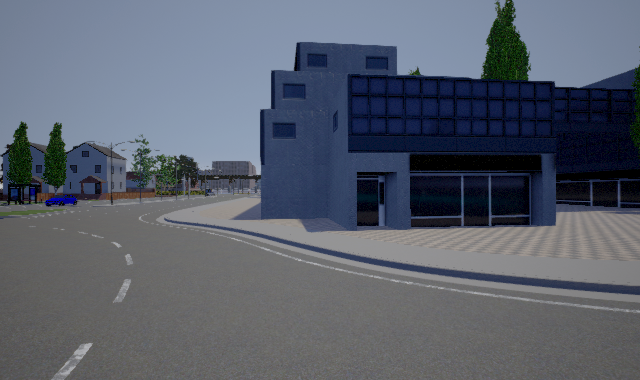vehicle: (45, 195, 77, 207)
